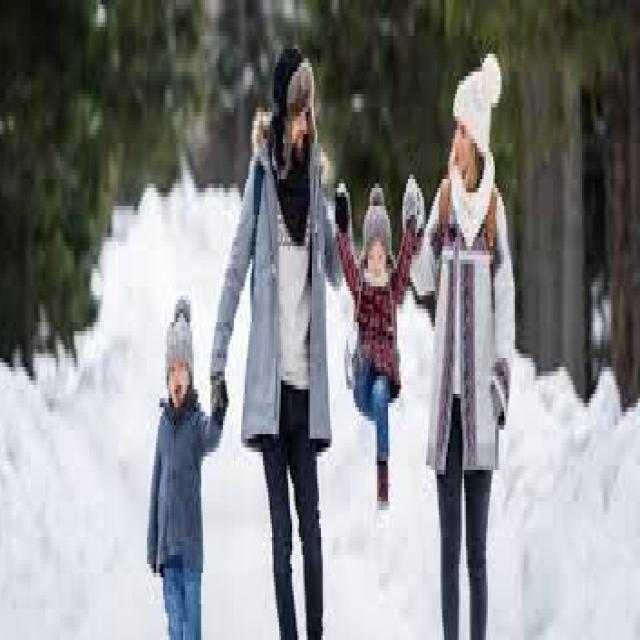Jacket: (222, 140, 351, 468), (414, 174, 513, 496), (144, 382, 224, 580), (345, 246, 416, 422)
